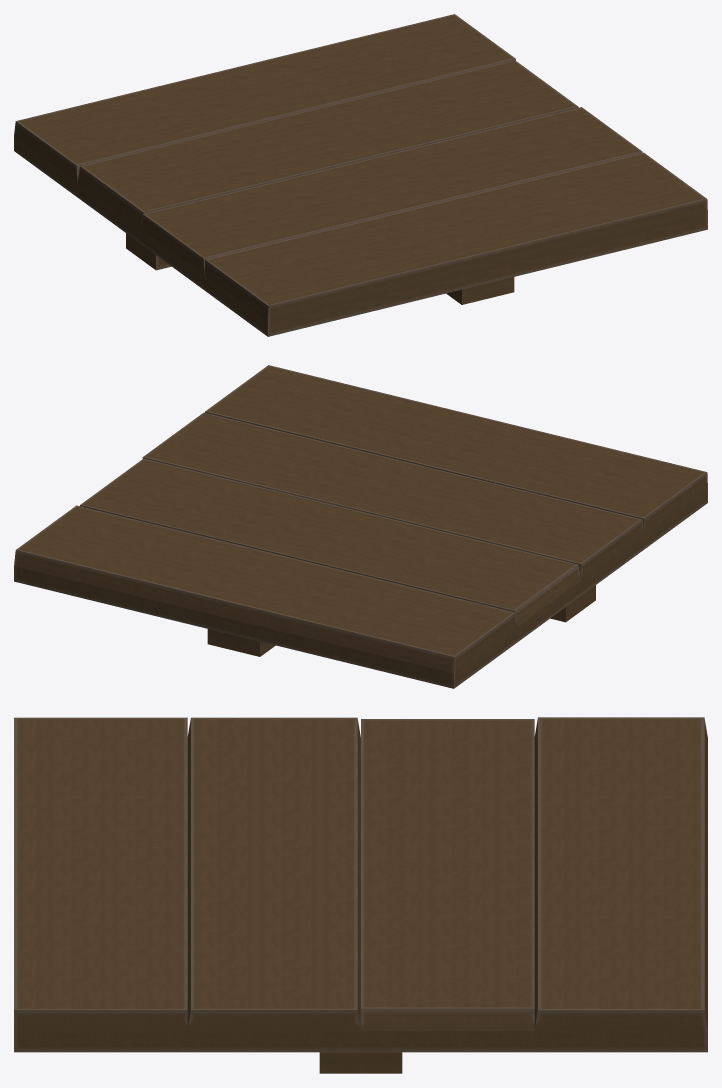
File: AirFloorPiece.fbx
3 renders of one model, top to bottom at view 1: azimuth 30°, elevation 25°; view 2: azimuth 150°, elevation 25°; view 3: azimuth 270°, elevation 25°, orthographic. The views are drawn at different scales.
Parts seen in each view (by area): view 1: AirFloorPiece; view 2: AirFloorPiece; view 3: AirFloorPiece.
Part boxes in pixels (bbox=[...]): AirFloorPiece: bbox=[14, 14, 707, 336]; AirFloorPiece: bbox=[14, 365, 707, 688]; AirFloorPiece: bbox=[14, 717, 707, 1073].
Size of the model in its own units: 316 by 31.69 by 316.
